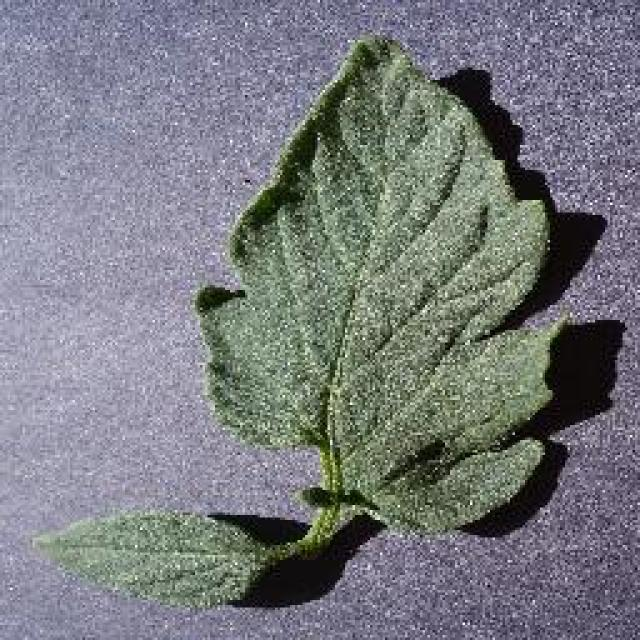Tomato___healthy: (33, 28, 572, 619)
